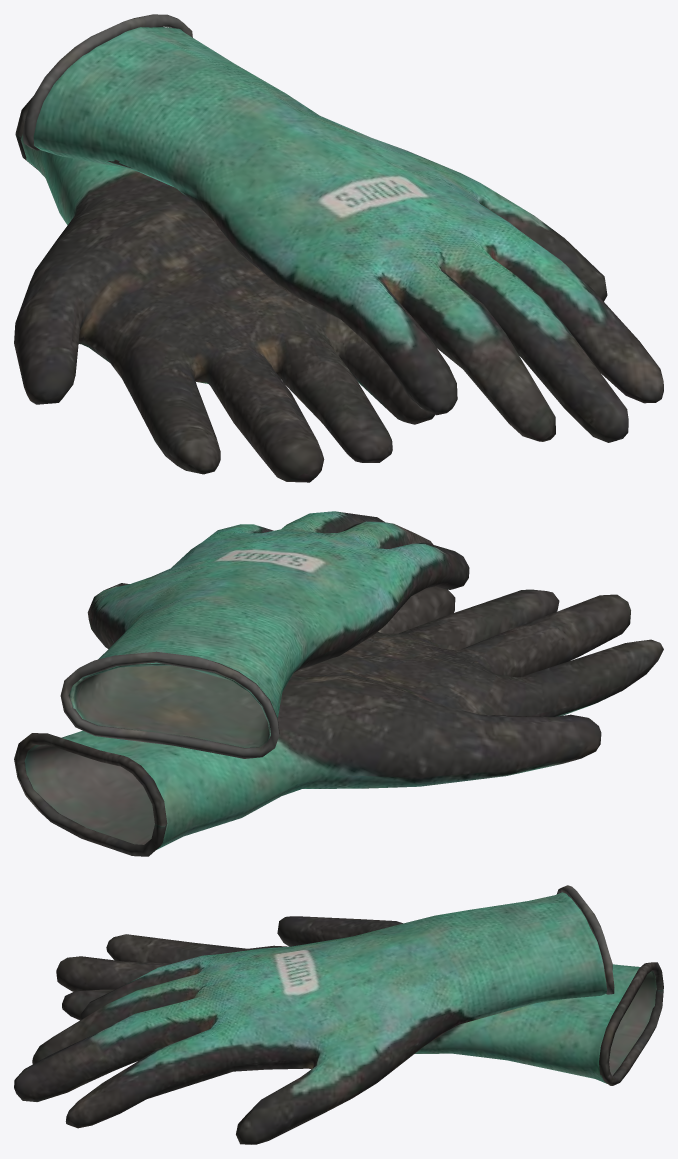
The model's file is garden_gloves_01.glb.
The picture shows the model from 3 angles, top to bottom: view 1: azimuth 30°, elevation 25°; view 2: azimuth 150°, elevation 25°; view 3: azimuth 270°, elevation 25°; orthographic projection. The views are drawn at different scales.
Parts seen in each view (by area): view 1: garden_gloves_01; view 2: garden_gloves_01; view 3: garden_gloves_01.
Part boxes in pixels (left/top/right/bottom): garden_gloves_01: left=14, top=14, right=663, bottom=482; garden_gloves_01: left=14, top=511, right=663, bottom=856; garden_gloves_01: left=14, top=885, right=663, bottom=1144.
Bounding box in the file's own units: 0.2262 × 0.0759 × 0.2983.
Materials: 1 (1 with a texture image).
